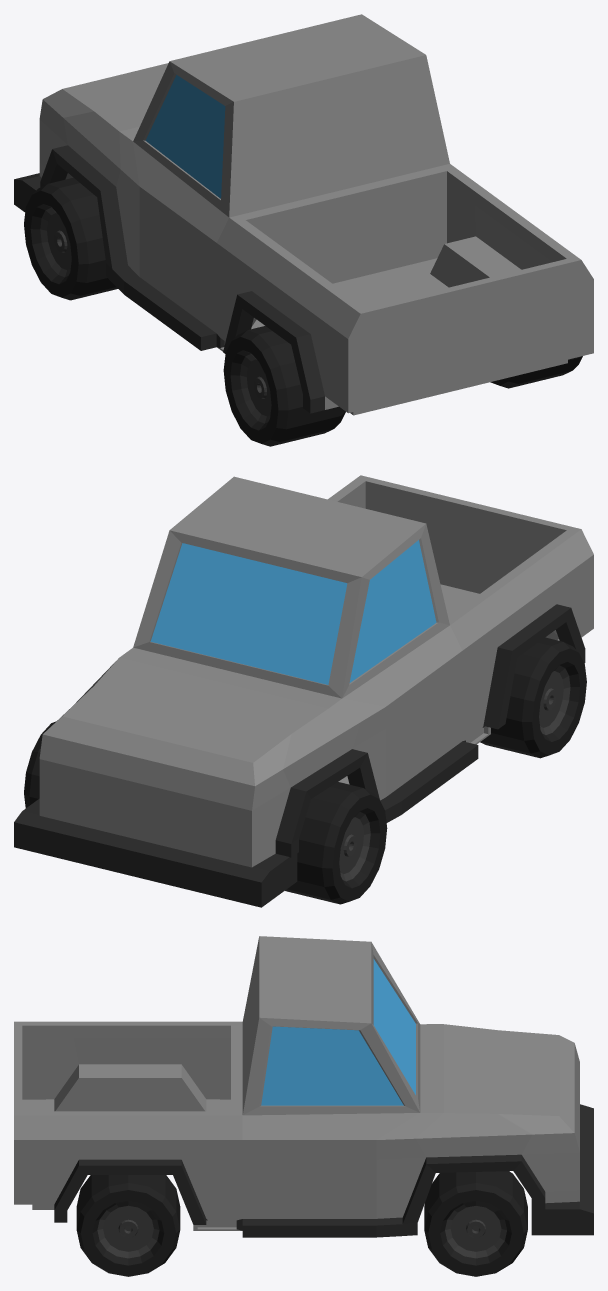
File: Pickup_Truck_1.fbx
3 renders of one model, top to bottom at view 1: azimuth 30°, elevation 25°; view 2: azimuth 150°, elevation 25°; view 3: azimuth 270°, elevation 25°, orthographic. The views are drawn at different scales.
Visible parts, largest first — view 1: Pickup_Truck_1, Wheel_B_L, Wheel_F_L, Wheel_B_R; view 2: Pickup_Truck_1, Wheel_F_L, Wheel_B_L, Wheel_F_R; view 3: Pickup_Truck_1, Wheel_F_R, Wheel_B_R.
Part boxes in pixels (box(x1,y1,x2,y2)): Pickup_Truck_1: box(14, 14, 593, 415); Wheel_B_L: box(223, 326, 345, 446); Wheel_F_L: box(24, 177, 117, 300); Wheel_B_R: box(490, 356, 582, 388); Pickup_Truck_1: box(14, 475, 593, 907); Wheel_F_L: box(285, 782, 387, 904); Wheel_B_L: box(480, 637, 586, 758); Wheel_F_R: box(24, 721, 55, 808); Pickup_Truck_1: box(14, 936, 593, 1237); Wheel_F_R: box(424, 1171, 527, 1276); Wheel_B_R: box(76, 1175, 180, 1276).
Size of the model in its own units: 185 by 157 by 346.
